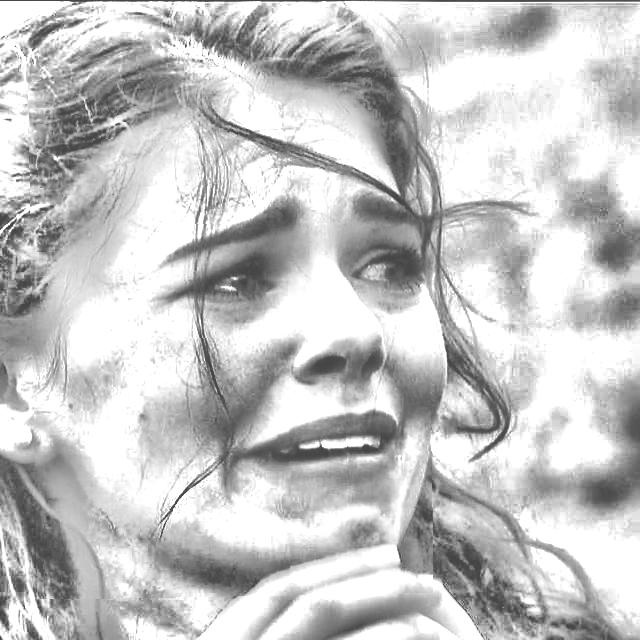sad: (30, 78, 431, 598)
